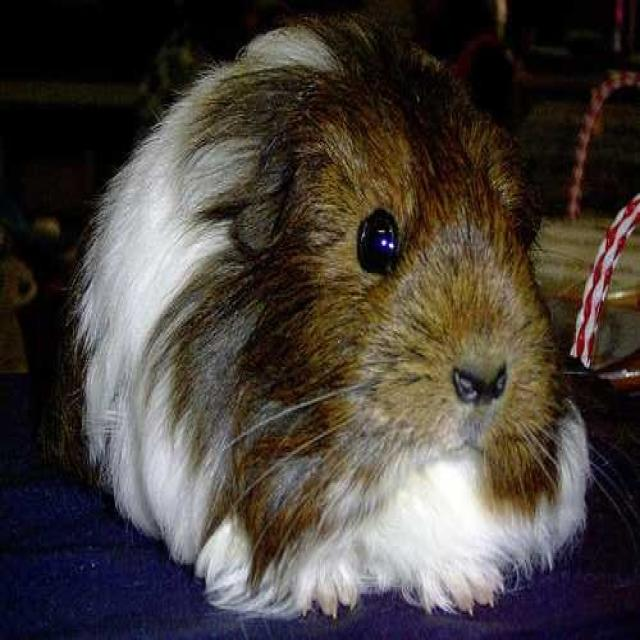guinea pig: (75, 24, 588, 611)
